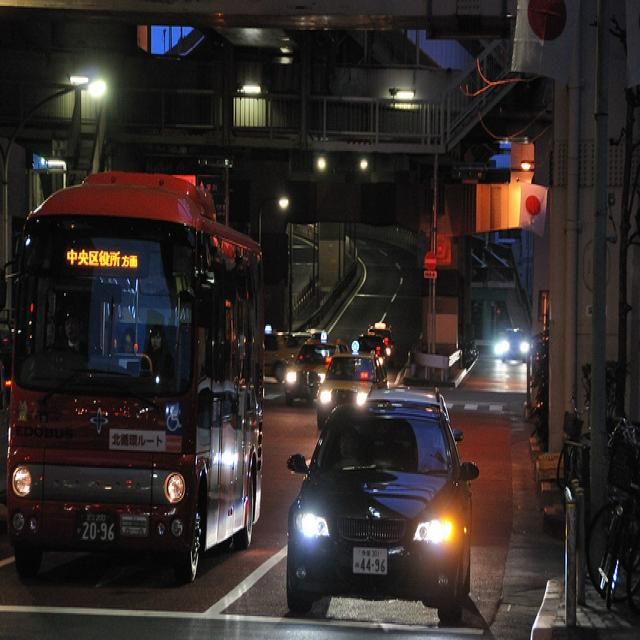Vehicle: (9, 189, 266, 557), (287, 403, 481, 622), (319, 358, 380, 428), (282, 338, 340, 399), (359, 388, 446, 416), (279, 329, 327, 363), (358, 336, 394, 362), (265, 332, 284, 376), (502, 329, 526, 363)
